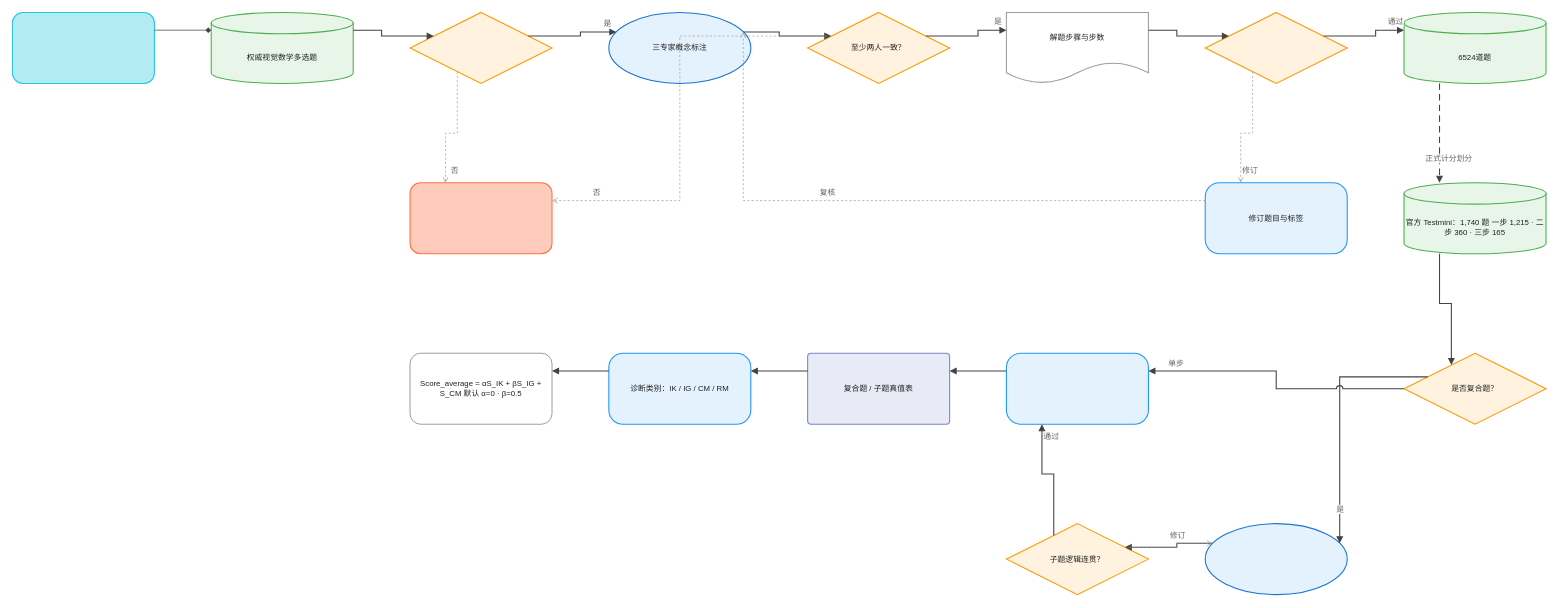
Image size: 1559x608. Some labels were removed from this diagram. The centre of each missing label's shape, as x and y in pixels:
"专家拆分概念子题" belongs at point 1275,559.
"五层 / 99节点 / 67叶子概念" belongs at point 83,48.
"双重复核通过？" belongs at point 1275,48.
"合格且答案唯一？" belongs at point 480,48.
"排除题目" belongs at point 480,218.
"标准多选与正则解析" belongs at point 1077,388.
